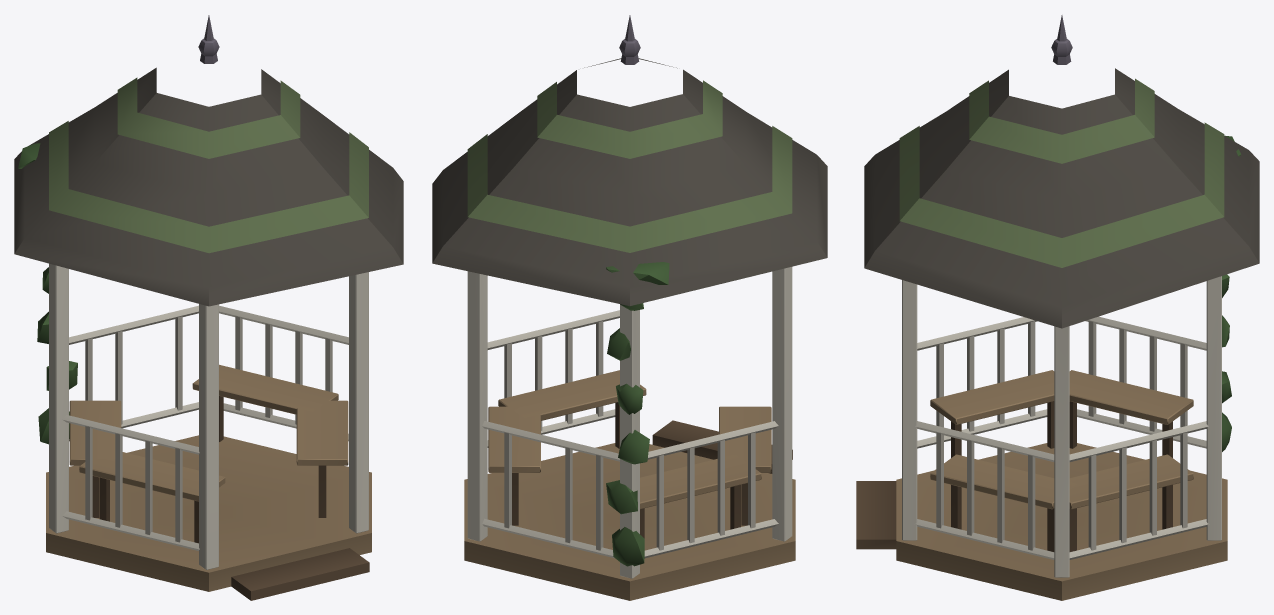
Rendered from gazebo_wilted.glb.
The picture shows the model from 3 angles, left to right: view 1: azimuth 30°, elevation 25°; view 2: azimuth 150°, elevation 25°; view 3: azimuth 270°, elevation 25°; orthographic projection.
Parts seen in each view (by area): view 1: gazebo_wilted; view 2: gazebo_wilted; view 3: gazebo_wilted.
Boxes of the visible parts, x1=… form: gazebo_wilted: x1=14, y1=15, x2=403, y2=600; gazebo_wilted: x1=432, y1=15, x2=827, y2=600; gazebo_wilted: x1=856, y1=15, x2=1259, y2=600.
Size of the model in its own units: 2.96 by 3.62 by 2.62.
